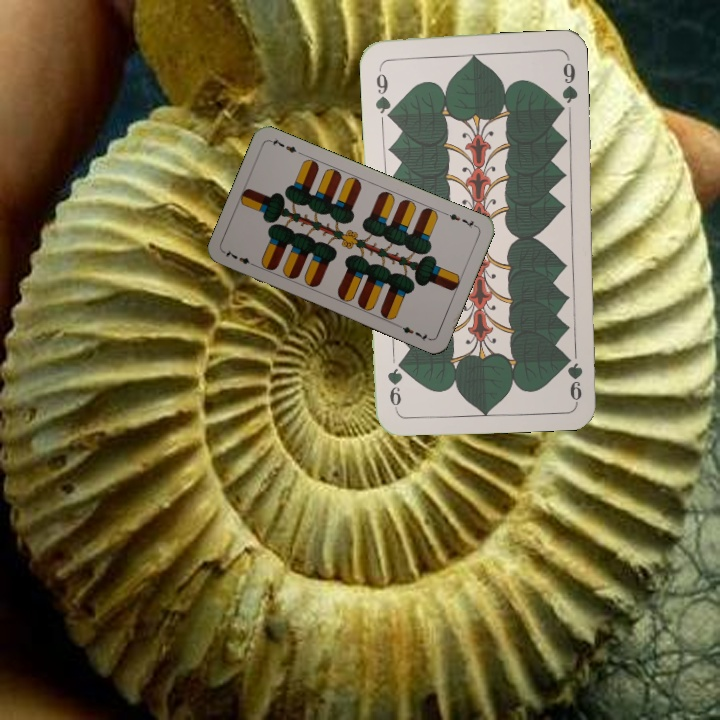E7: (220, 245, 259, 269), (441, 208, 480, 230)
G9: (371, 63, 395, 121), (565, 354, 585, 404)
